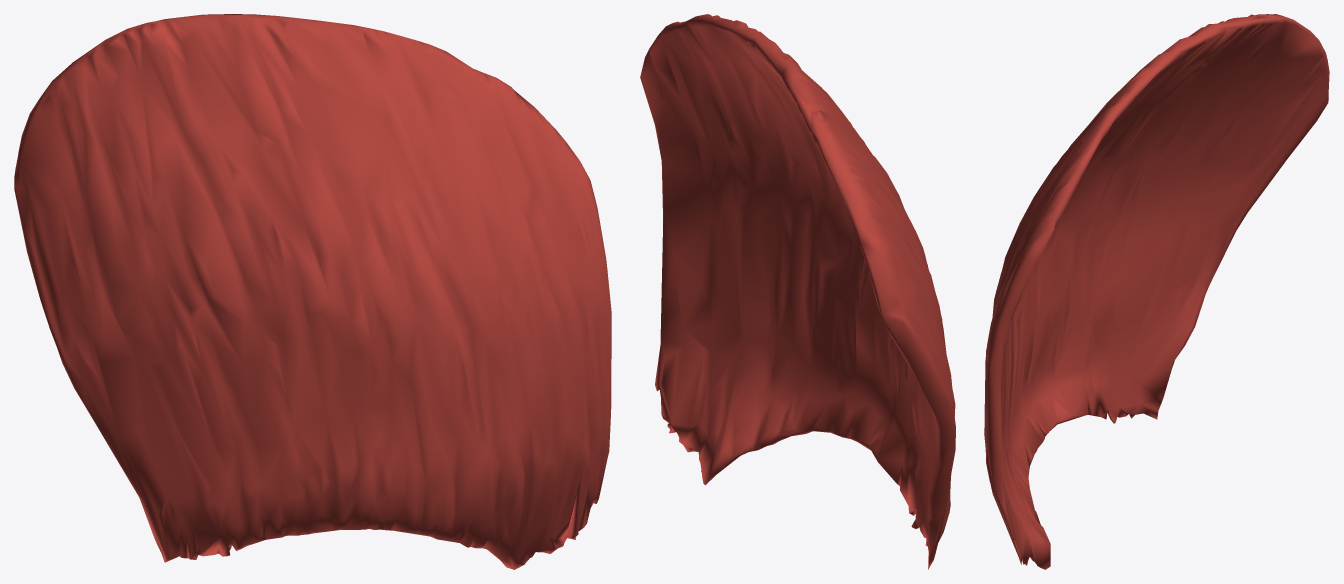
File: musculos-frontalis-muscle-r.glb
The picture shows the model from 3 angles, left to right: view 1: azimuth 30°, elevation 25°; view 2: azimuth 150°, elevation 25°; view 3: azimuth 270°, elevation 25°; orthographic projection. The views are drawn at different scales.
Visible parts, largest first — view 1: Frontalis muscle.r; view 2: Frontalis muscle.r; view 3: Frontalis muscle.r.
Part boxes in pixels (bbox=[...]): Frontalis muscle.r: bbox=[14, 14, 611, 569]; Frontalis muscle.r: bbox=[640, 14, 955, 569]; Frontalis muscle.r: bbox=[984, 14, 1329, 569].
Size of the model in its own units: 0.0584 by 0.0701 by 0.0469.
